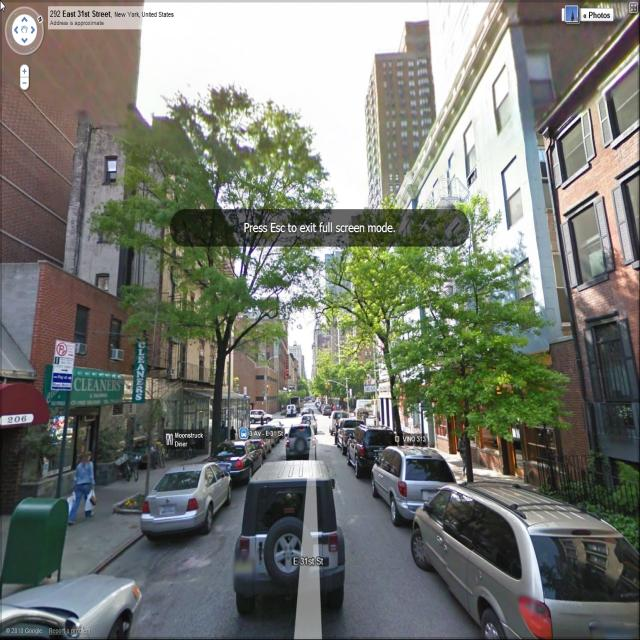b_1: (354, 28, 442, 232)
b_2: (418, 24, 543, 500), (547, 38, 640, 484), (133, 124, 247, 462), (1, 260, 158, 474), (354, 189, 436, 439), (314, 250, 376, 411), (223, 315, 300, 429)
